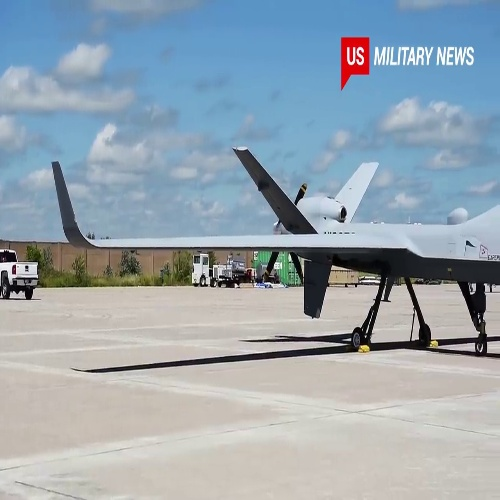uav528: (51, 145, 500, 361)
